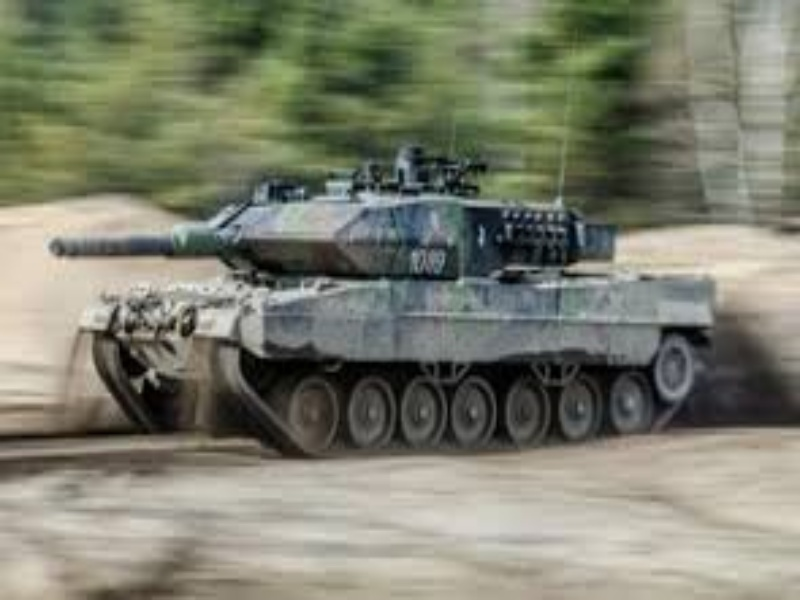tank: (46, 144, 718, 462)
